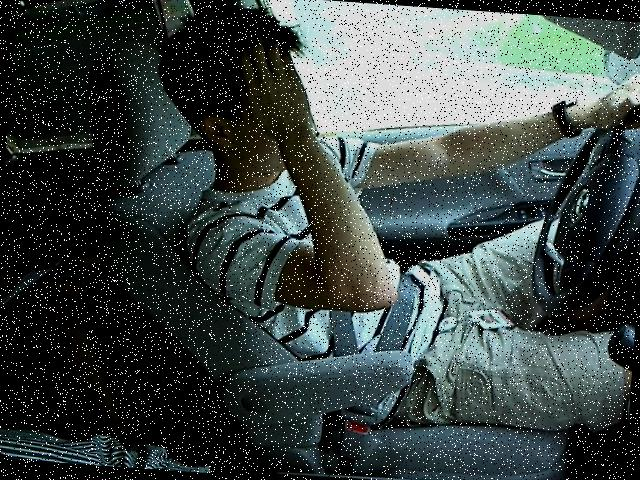c6 - Hair and Makeup: (132, 0, 639, 353)
